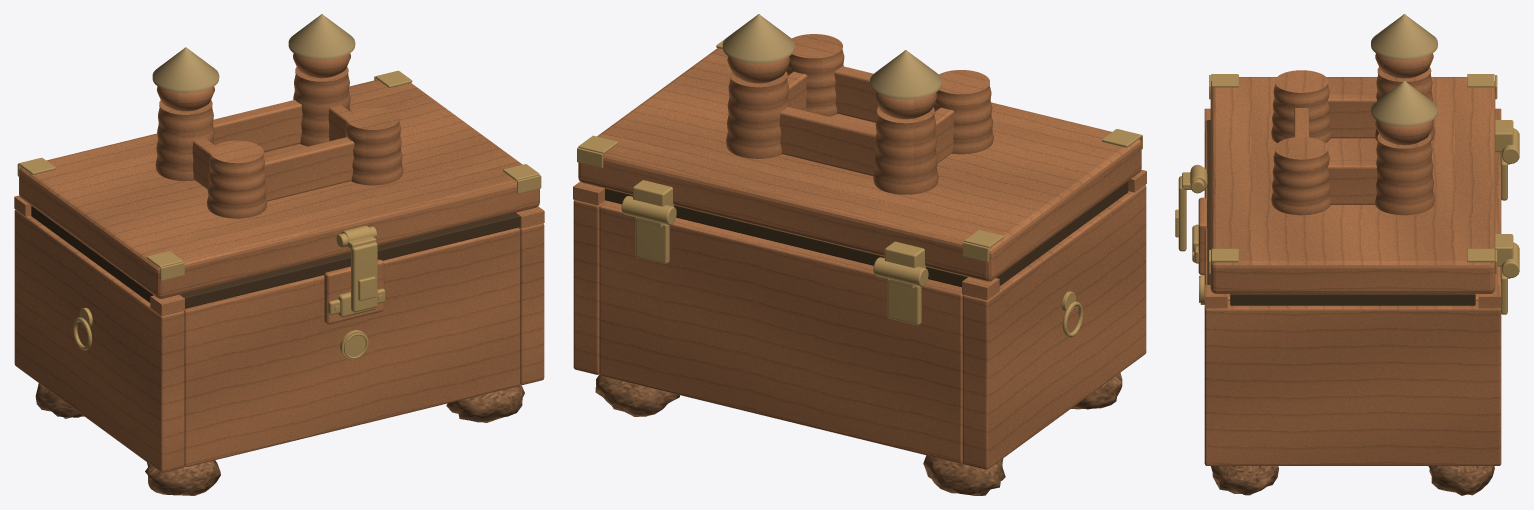
File: togo.glb
The picture shows the model from 3 angles, left to right: view 1: azimuth 30°, elevation 25°; view 2: azimuth 150°, elevation 25°; view 3: azimuth 270°, elevation 25°; orthographic projection. The views are drawn at different scales.
Parts seen in each view (by area): view 1: Earth / long skin, Lid / polished slab, Earth / side skin, Mineral seam / long, Compound / tower, Compound / linking wall X, Earth / side skin.001, Compound / tower.002, Compound / tower.001, Compound / linking wall X.001, Compound / tower.003, Compound / thatch cap (+13 smaller); view 2: Earth / long skin.001, Lid / polished slab, Earth / side skin, Compound / tower.001, Compound / linking wall X.001, Earth / side skin.001, Compound / tower.003, Compound / tower, Mineral seam / long.001, Compound / tower.002, Compound / thatch cap.001, Compound / thatch cap (+16 smaller); view 3: Earth / side skin.001, Lid / polished slab, Compound / tower.002, Compound / tower.003, Compound / tower, Mineral seam / side.001, Compound / linking wall Y.001, Compound / thatch cap.001, Compound / thatch cap, Compound / linking wall Y, Earth foot.002, Earth foot.003 (+19 smaller).
Boxes of the visible parts, box(x1,y1,x2,y2) form: Earth / long skin: box(184, 227, 520, 466); Lid / polished slab: box(19, 79, 539, 298); Earth / side skin: box(14, 209, 184, 472); Mineral seam / long: box(180, 212, 519, 308); Compound / tower: box(207, 140, 267, 218); Compound / linking wall X: box(264, 137, 354, 201); Earth / side skin.001: box(518, 223, 544, 384); Compound / tower.002: box(345, 107, 403, 185); Compound / tower.001: box(155, 100, 214, 180); Compound / linking wall X.001: box(213, 100, 302, 152); Compound / tower.003: box(293, 67, 350, 146); Compound / thatch cap: box(152, 47, 219, 92); Earth / long skin.001: box(599, 201, 962, 463); Lid / polished slab: box(578, 48, 1141, 281); Earth / side skin: box(962, 185, 1146, 469); Compound / tower.001: box(873, 107, 938, 194); Compound / linking wall X.001: box(779, 107, 876, 176); Earth / side skin.001: box(573, 200, 606, 374); Compound / tower.003: box(726, 71, 789, 158); Compound / tower: box(933, 70, 993, 154); Mineral seam / long.001: box(605, 188, 967, 287); Compound / tower.002: box(786, 34, 844, 116); Compound / thatch cap.001: box(722, 14, 794, 63); Compound / thatch cap: box(870, 50, 941, 99); Earth / side skin.001: box(1204, 301, 1501, 465); Lid / polished slab: box(1210, 77, 1495, 293); Compound / tower.002: box(1271, 137, 1330, 215); Compound / tower.003: box(1375, 134, 1434, 215); Compound / tower: box(1271, 70, 1330, 143); Mineral seam / side.001: box(1230, 294, 1475, 305); Compound / linking wall Y.001: box(1327, 160, 1377, 204); Compound / thatch cap.001: box(1371, 80, 1437, 126); Compound / thatch cap: box(1371, 14, 1437, 59); Compound / linking wall Y: box(1327, 94, 1376, 138); Earth foot.002: box(1211, 466, 1278, 495); Earth foot.003: box(1428, 466, 1494, 495).
Size of the model in its own units: 3.79 by 3.41 by 2.88.
Materials: 5 (2 with a texture image).
